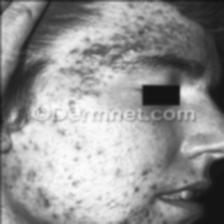Non-Cancerous Skin Condition: (7, 125, 180, 224), (53, 29, 140, 97), (150, 4, 208, 56)
